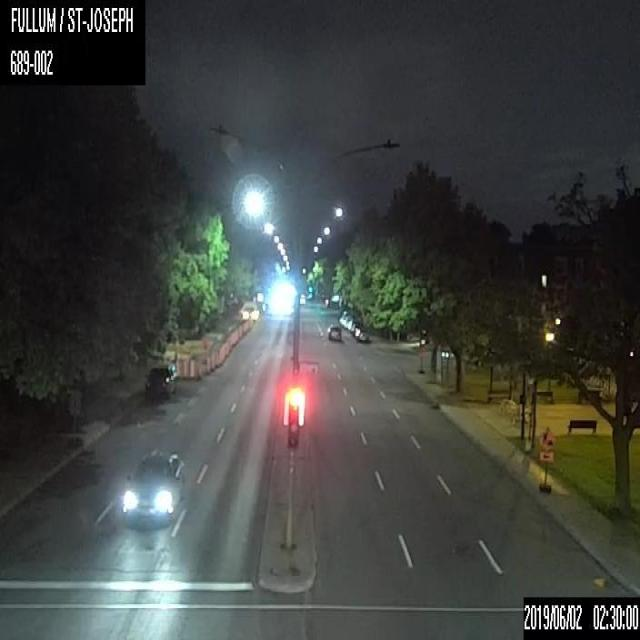construction: (536, 424, 556, 492), (187, 357, 194, 379), (195, 358, 202, 379), (210, 353, 213, 370)
vehicle: (120, 447, 185, 525), (143, 363, 175, 400), (239, 301, 258, 320), (326, 324, 341, 341)
